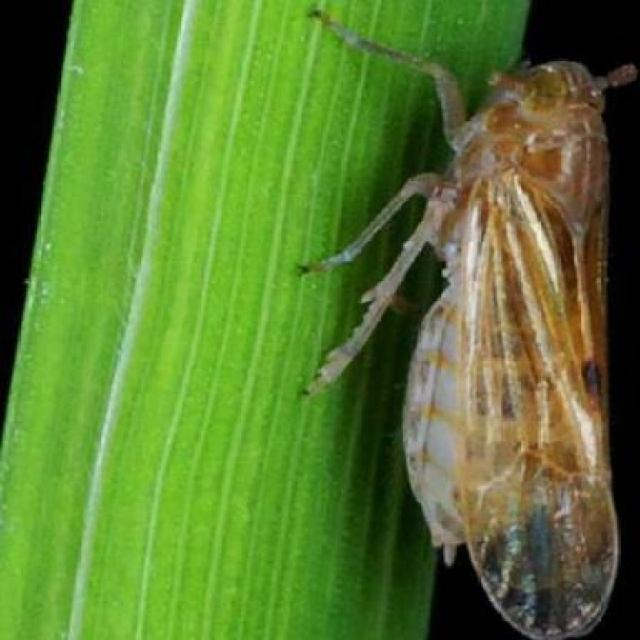brown-planthopper: (397, 38, 620, 556)
